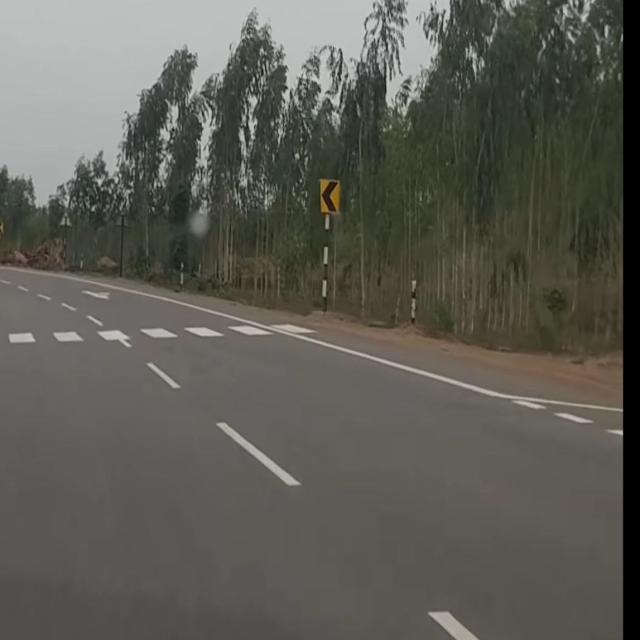chevron_left: (320, 176, 346, 218)
